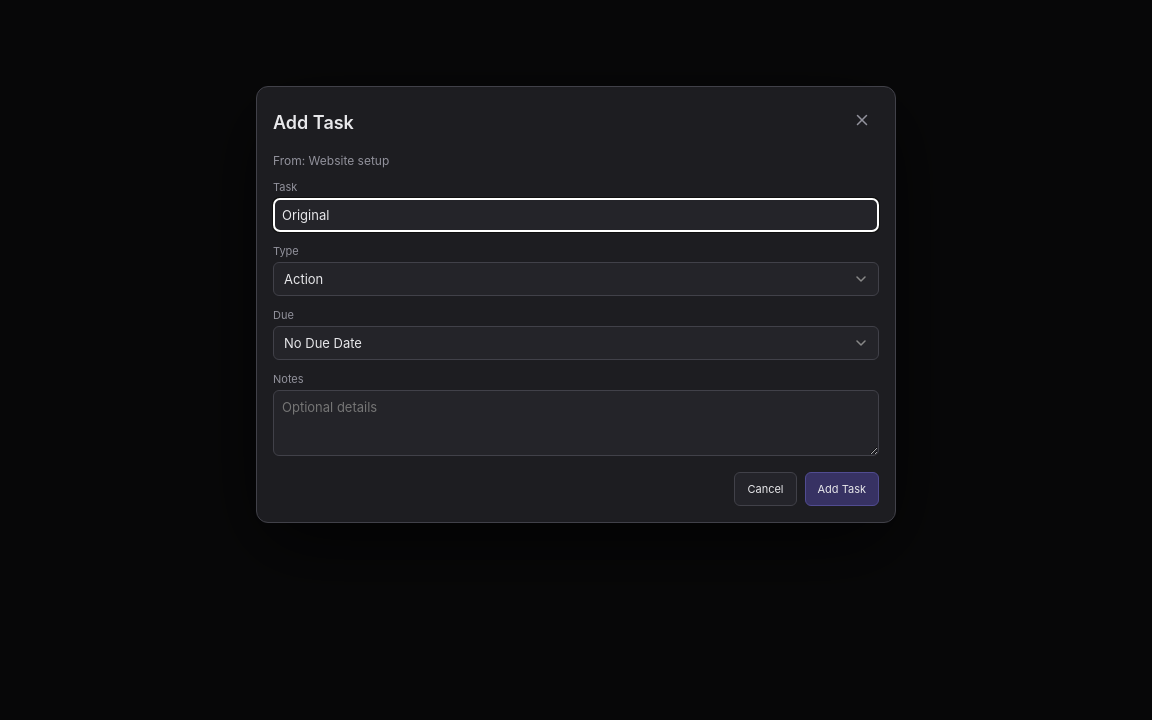
Test: TaskEditorDialog › preserves entered values when submission fails
Replace the text in the field labelled "Task" with "Keep this value": (576,215) [273,198,879,232]
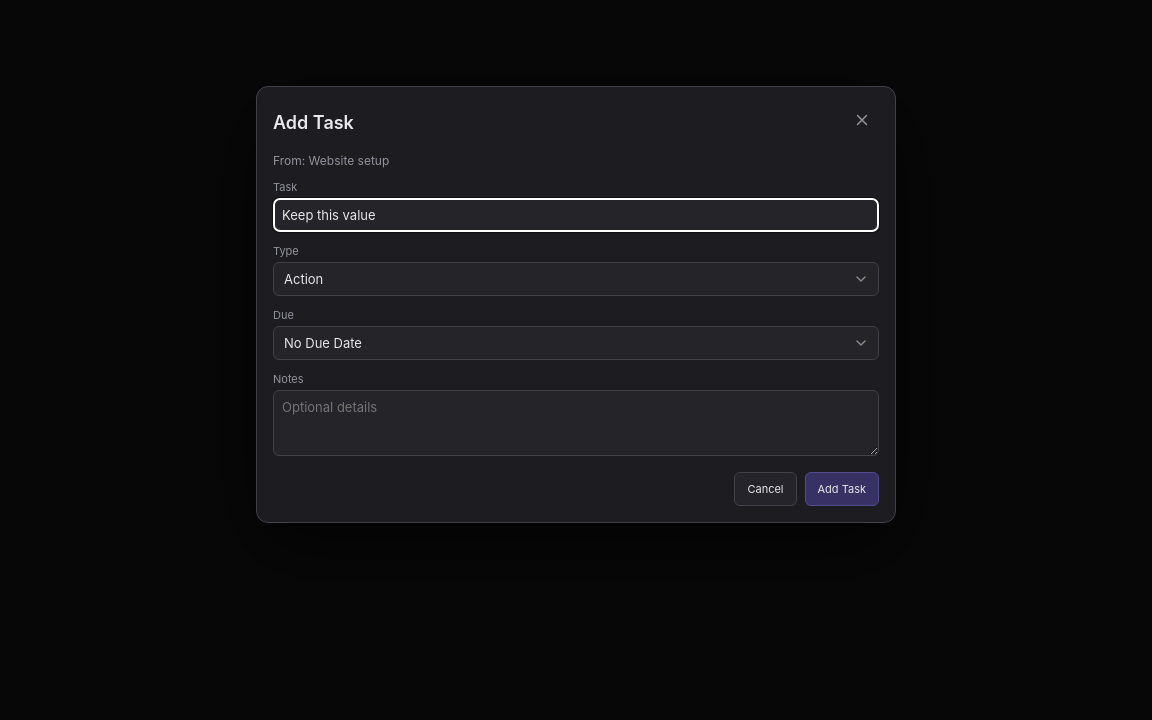
Click the button "Add Task": (842,489) [804,472,879,506]
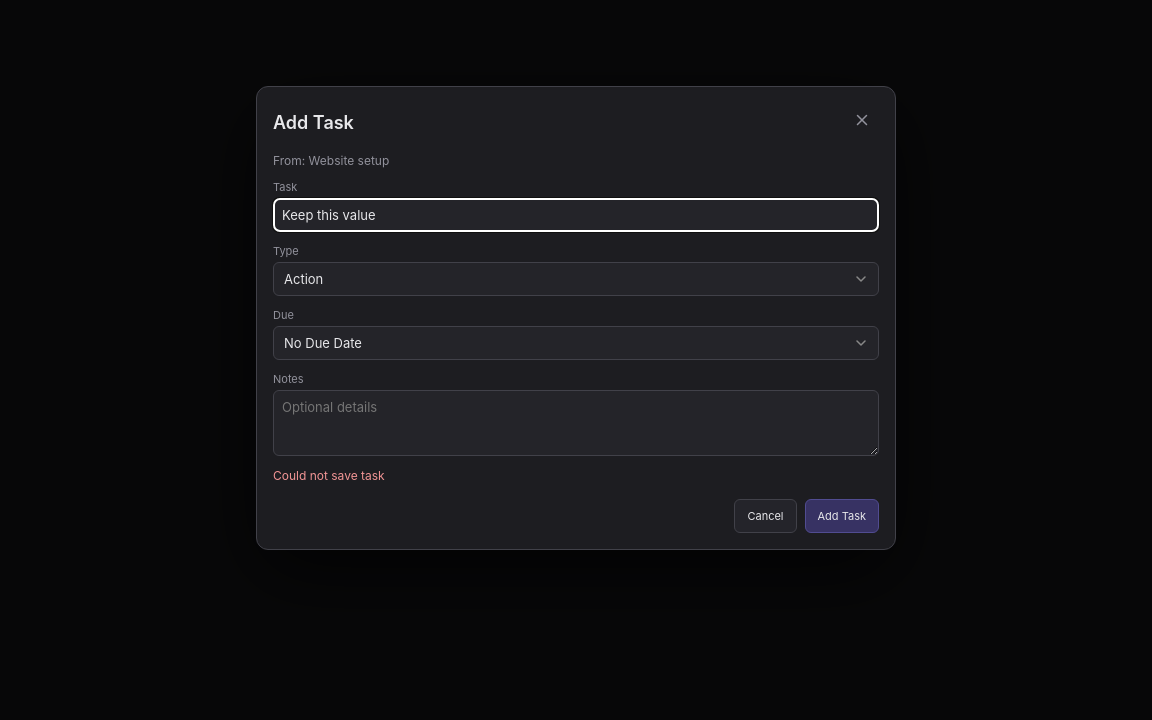
Check: the message reads "Could not save task", box [273,468,385,483]
